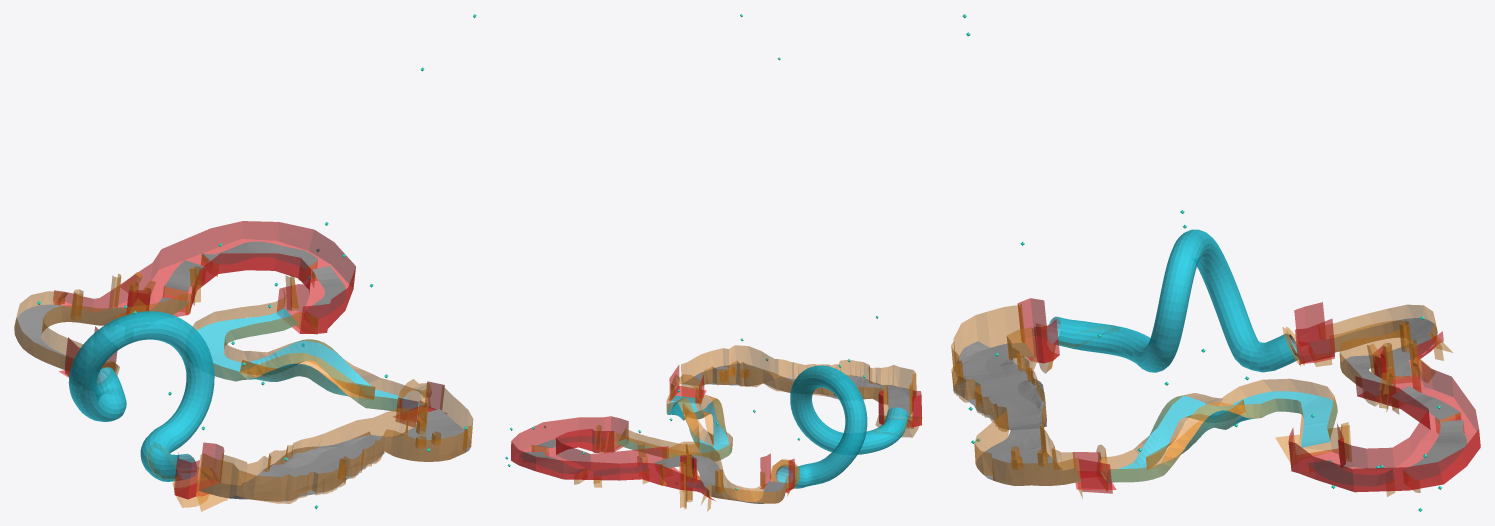
Rendered from DSD(Complete).obj.
The picture shows the model from 3 angles, left to right: view 1: azimuth 30°, elevation 25°; view 2: azimuth 150°, elevation 25°; view 3: azimuth 270°, elevation 25°; orthographic projection. The views are drawn at different scales.
Visible parts, largest first — view 1: COL_Wall01, COL_reset_01, COL_maglev01_col, COL_Meteo_ground13_col, COL_graveltrack01_col, COL_blasterpadmaglevA; view 2: COL_Wall01, COL_reset_01, COL_maglev01_col, COL_Meteo_ground13_col, COL_graveltrack01_col, COL_blasterpadmaglevA; view 3: COL_Wall01, COL_reset_01, COL_maglev01_col, COL_Meteo_ground13_col, COL_graveltrack01_col, COL_blasterpadmaglevA.
Boxes of the visible parts, x1,y1,x2,y2 form: COL_Wall01: [14, 253, 473, 511]; COL_reset_01: [53, 221, 447, 499]; COL_maglev01_col: [68, 308, 421, 481]; COL_Meteo_ground13_col: [14, 245, 471, 499]; COL_graveltrack01_col: [217, 241, 442, 501]; COL_blasterpadmaglevA: [237, 339, 376, 407]; COL_Wall01: [531, 345, 922, 511]; COL_reset_01: [511, 365, 921, 500]; COL_maglev01_col: [616, 365, 908, 488]; COL_Meteo_ground13_col: [526, 363, 911, 503]; COL_graveltrack01_col: [520, 373, 915, 473]; COL_blasterpadmaglevA: [668, 398, 728, 447]; COL_Wall01: [951, 303, 1464, 498]; COL_reset_01: [1017, 298, 1480, 493]; COL_maglev01_col: [1047, 229, 1337, 482]; COL_Meteo_ground13_col: [965, 318, 1463, 486]; COL_graveltrack01_col: [953, 341, 1466, 479]; COL_blasterpadmaglevA: [1134, 396, 1261, 474].
Bounding box in the file's own units: 359 × 437 × 439.
